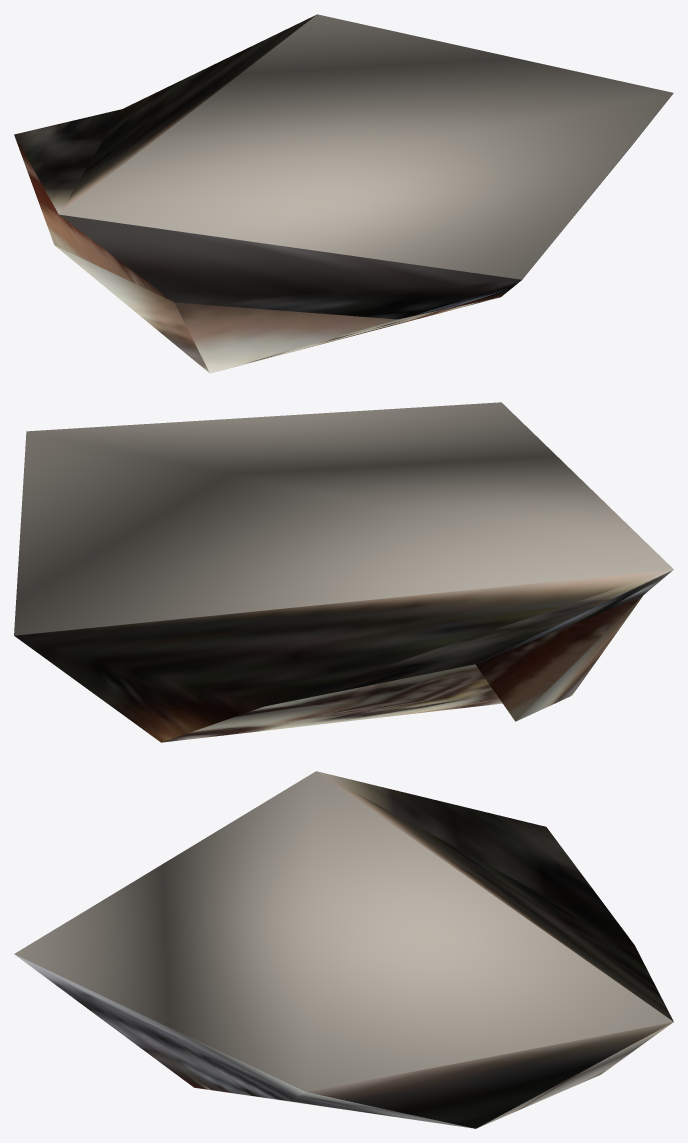
Rendered from cake_24.obj.
3 views of the same model, one above another, from view 1: azimuth 30°, elevation 25°; view 2: azimuth 150°, elevation 25°; view 3: azimuth 270°, elevation 25° (orthographic). The views are drawn at different scales.
Bounding box in the file's own units: 0.1673 × 0.0442 × 0.1569.
1 material, 1 textured.
